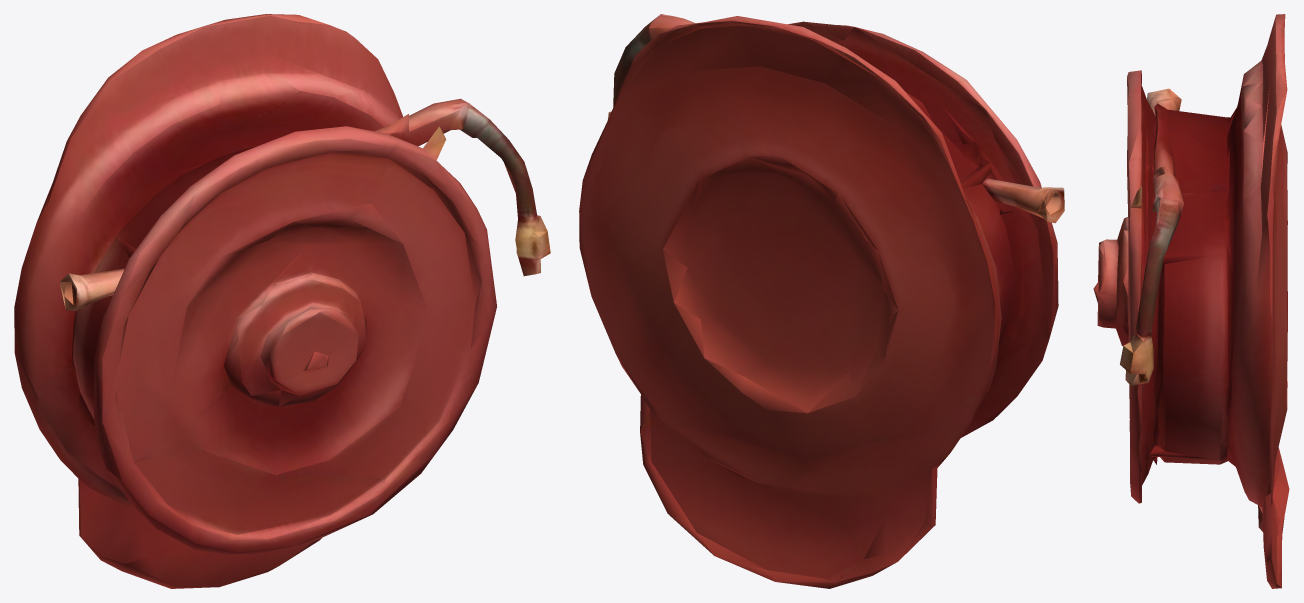
Rendered from hoseReel.glb.
3 renders of one model, left to right at view 1: azimuth 30°, elevation 25°; view 2: azimuth 150°, elevation 25°; view 3: azimuth 270°, elevation 25°, orthographic. The views are drawn at different scales.
Parts seen in each view (by area): view 1: model; view 2: model; view 3: model.
Boxes of the visible parts, x1,y1,x2,y2 form: model: (14,14,550,588); model: (579,14,1064,588); model: (1093,14,1289,588).
Bounding box in the file's own units: 1.64 × 1.9 × 0.6348.
1 material, 1 textured.
